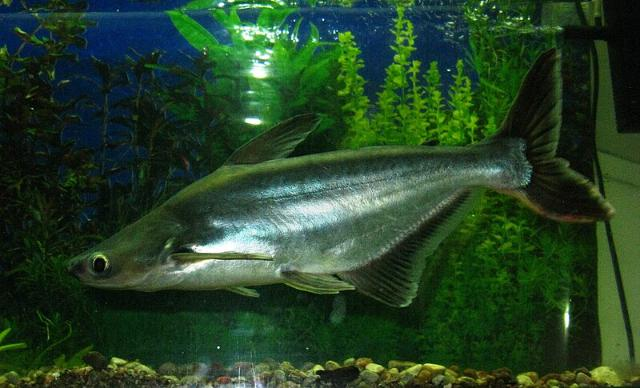Mulut: (58, 244, 125, 298)
Sirip Anal: (341, 178, 494, 312)
Sirip Dada: (178, 238, 278, 278), (226, 276, 270, 308)
Sirip Ekor: (491, 45, 625, 224)
Sirip Perut: (270, 253, 362, 313)
Sirip Punggung: (222, 98, 336, 172)
